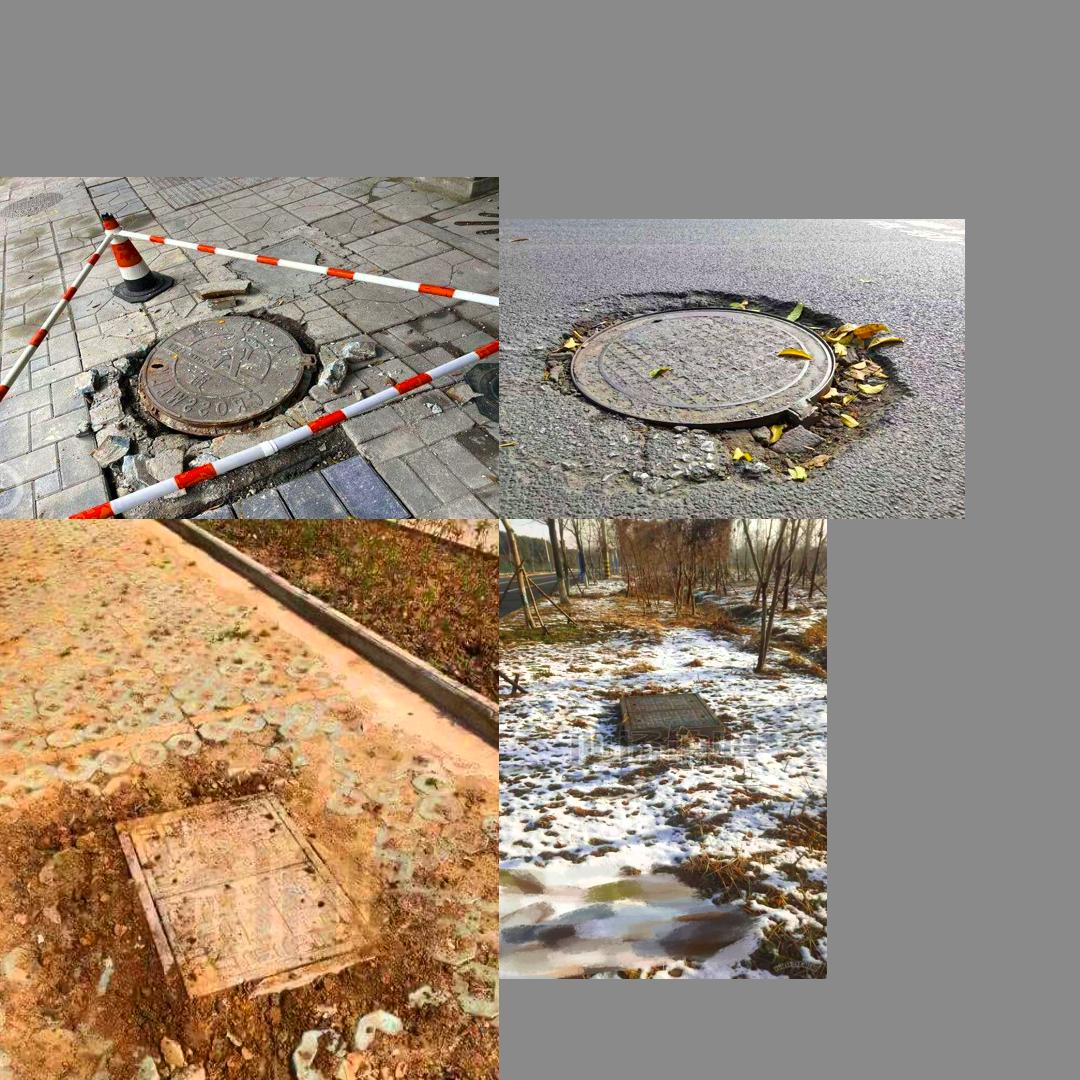circle: (91, 785, 404, 1038), (509, 289, 902, 486), (91, 294, 362, 507), (615, 692, 732, 748)
